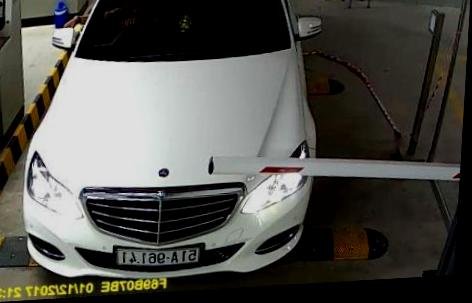License_Plate: (111, 242, 204, 270)
